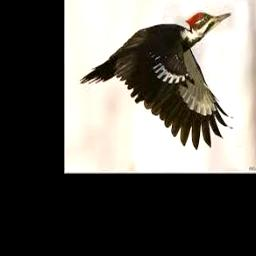Woodpecker: (80, 12, 234, 150)
